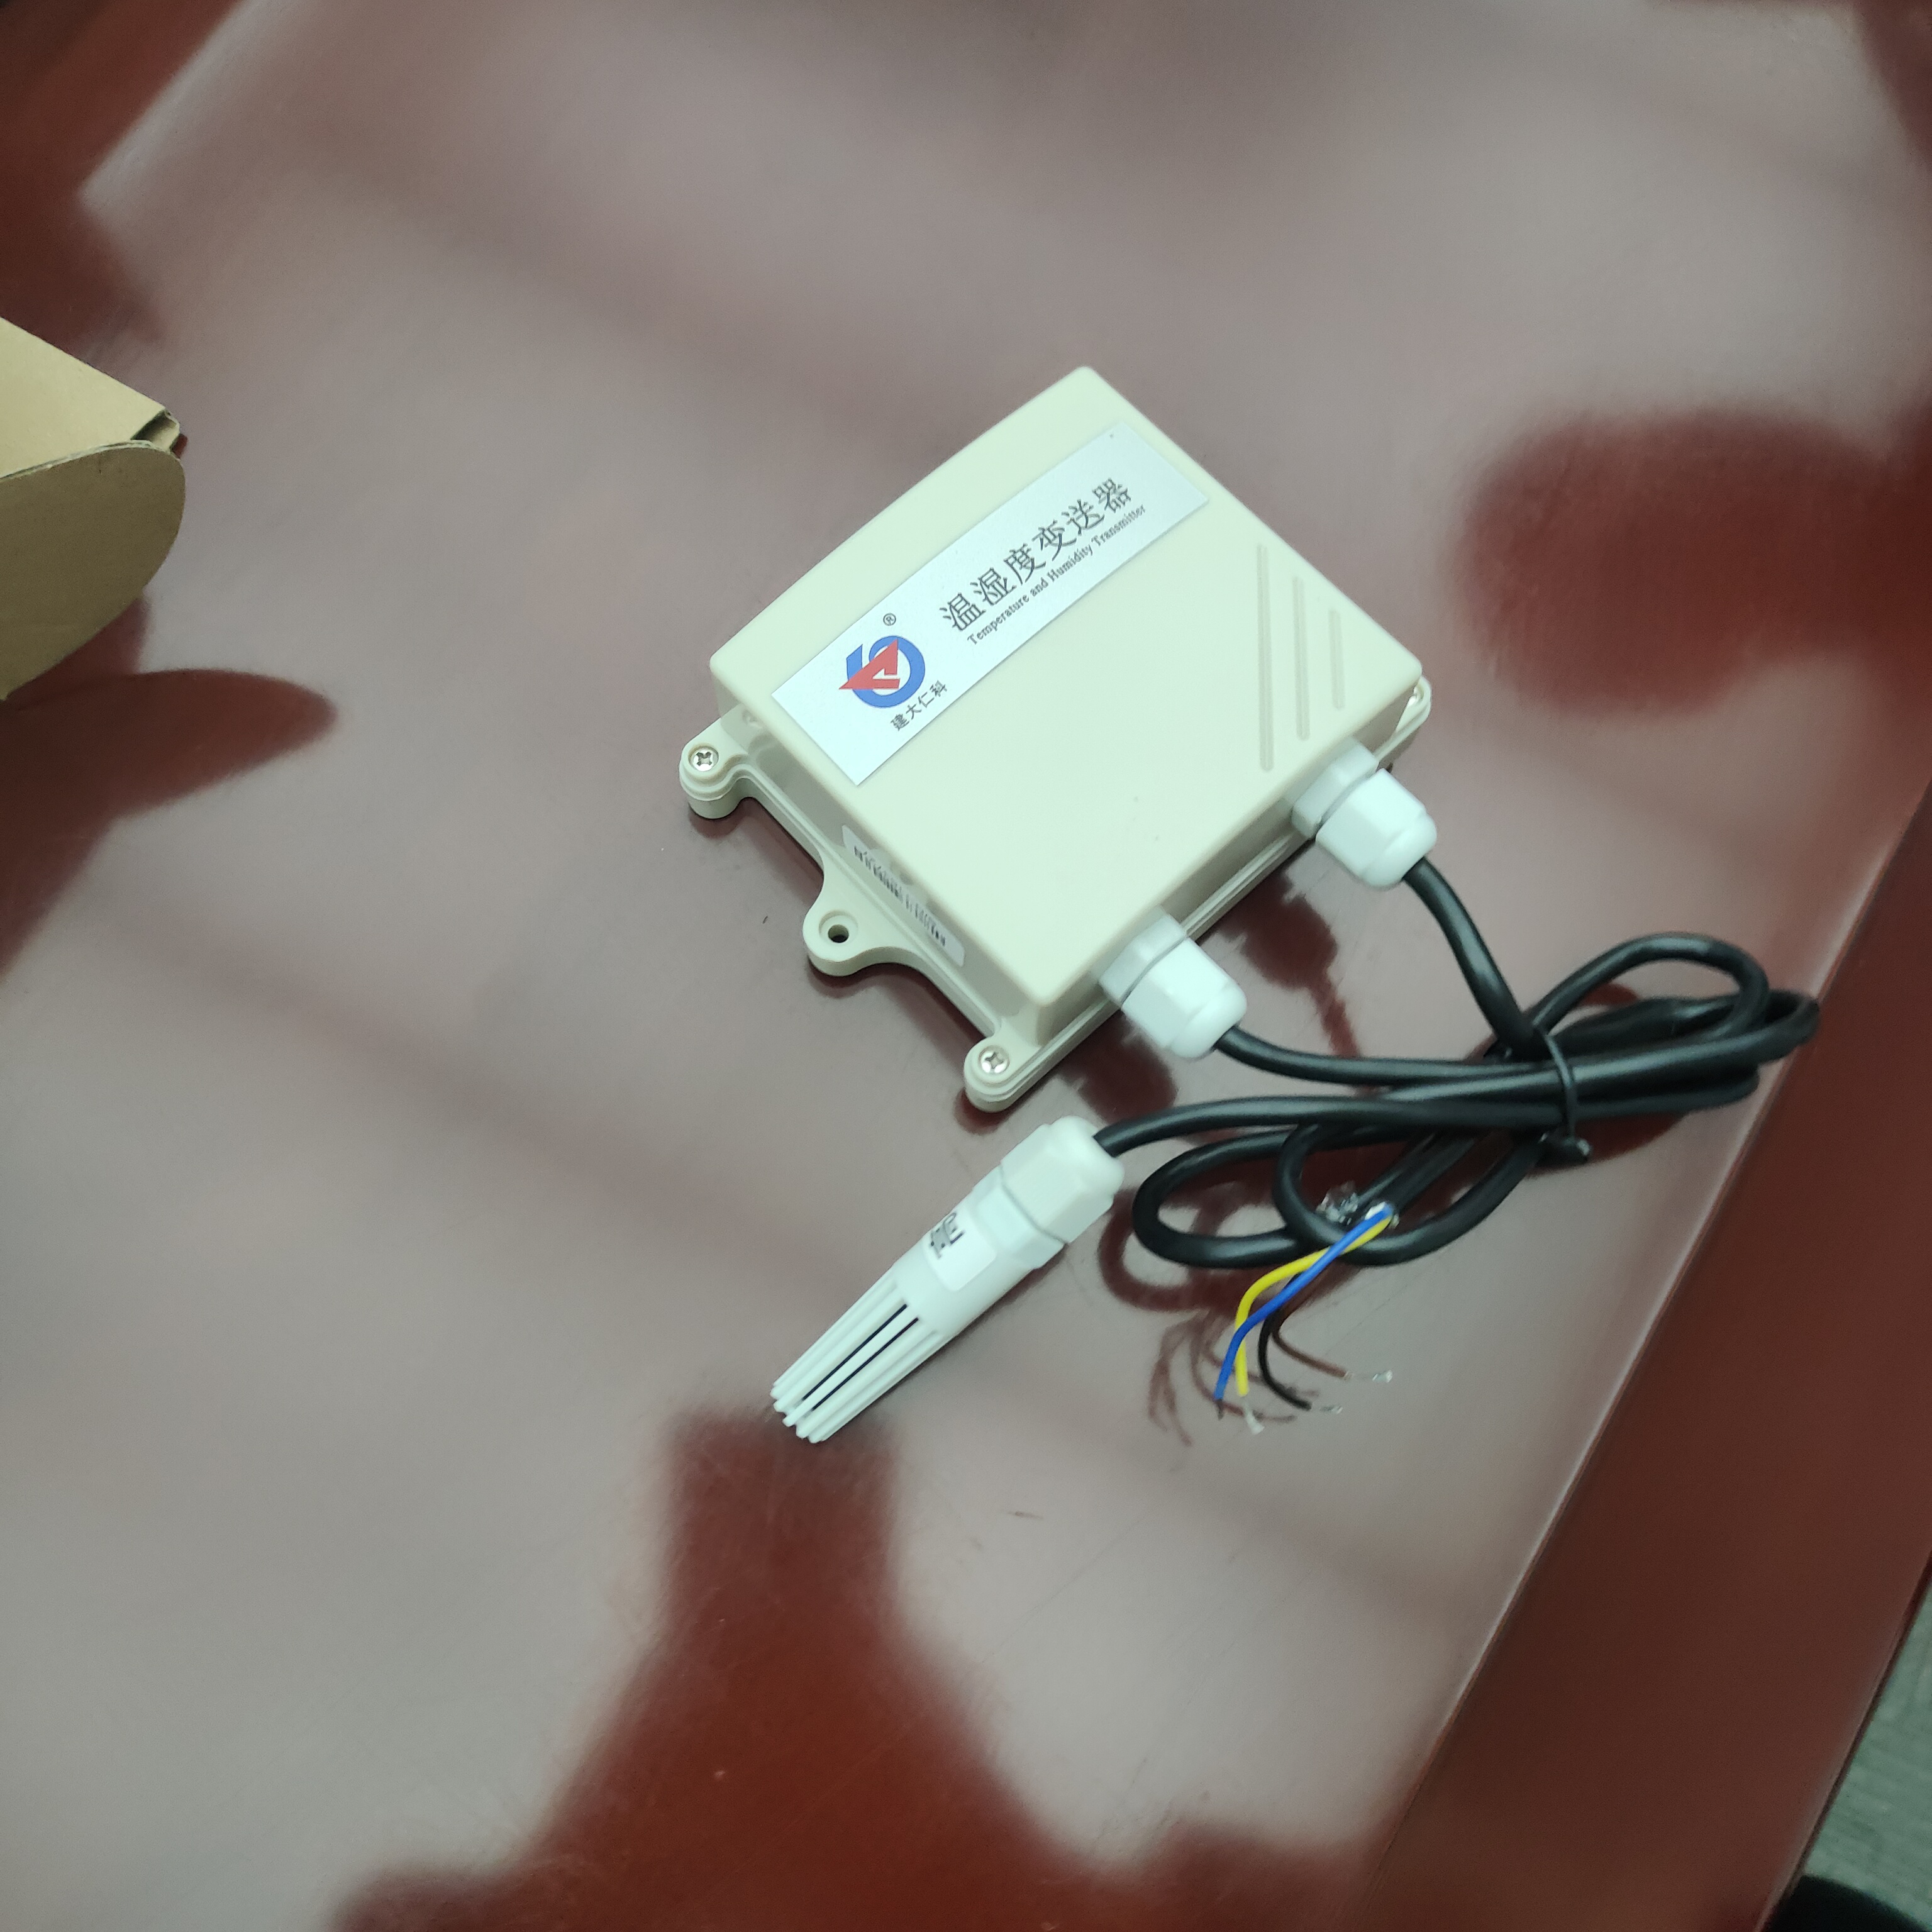wsdbsq: (681, 347, 1445, 1111)
